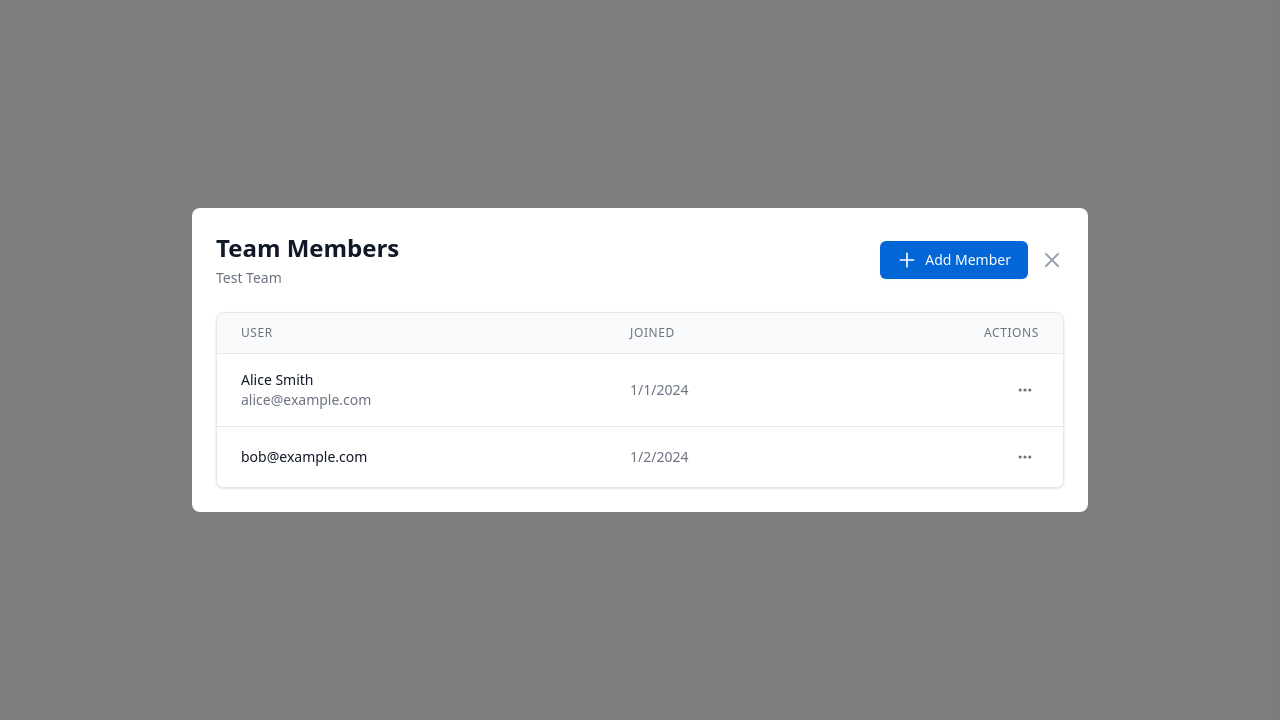
Test: TeamMembers › Add Member › should open add member modal when button is clicked
Click the button "Add Member" at (954, 260), box [880,241,1028,279]
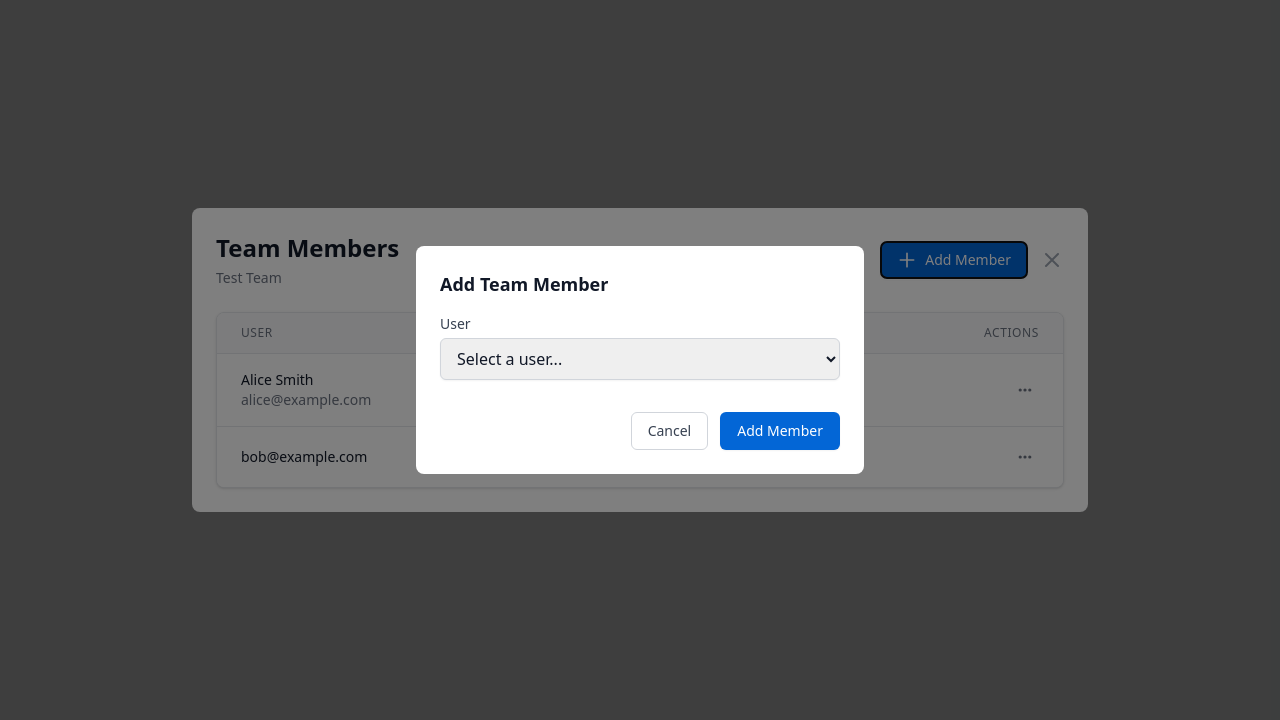
Expected: the heading "Add Team Member" is shown, [440,272,608,296]
Expected: the dropdown labelled "User" is shown, [440,338,840,380]
